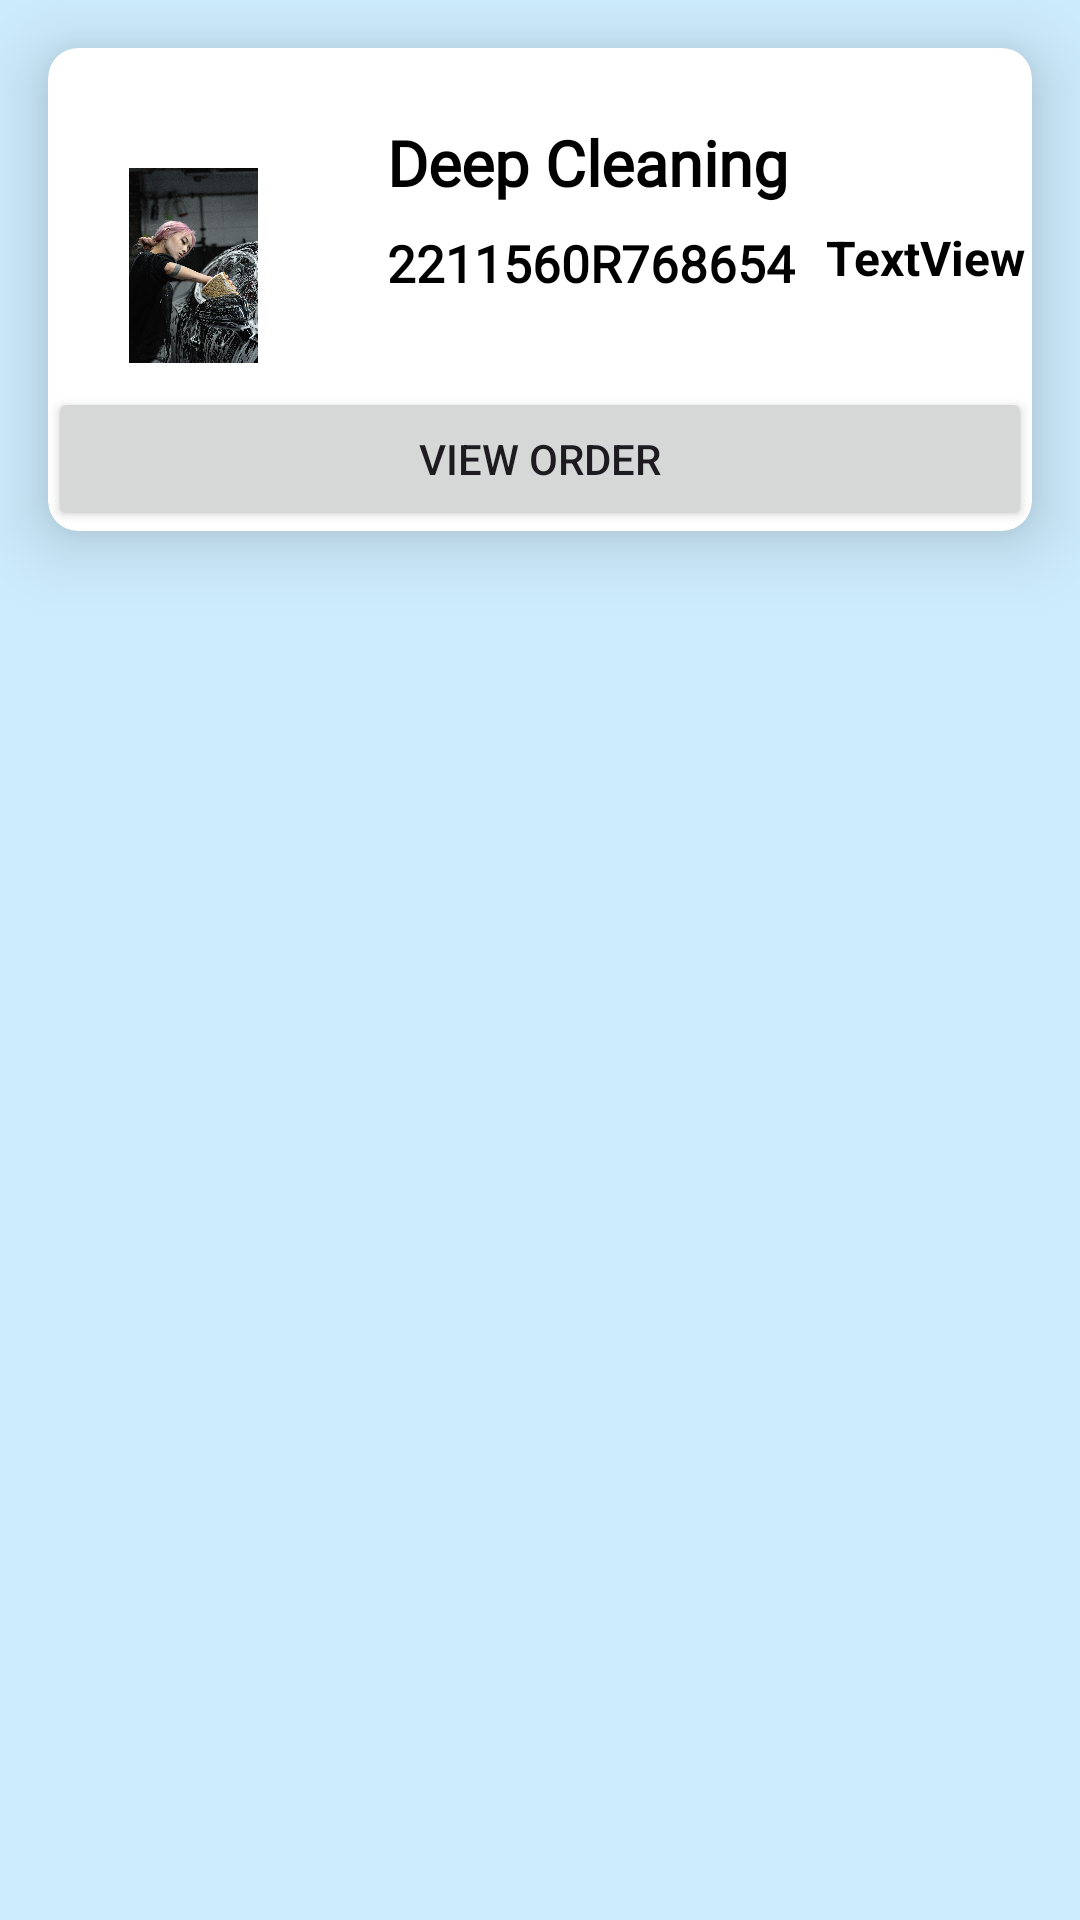

Named icons in this screenshot (1080 × 1920) and their bounding boxes, (x1, y1, x2, y2):
max discont cleaning: (129, 168, 258, 363)
